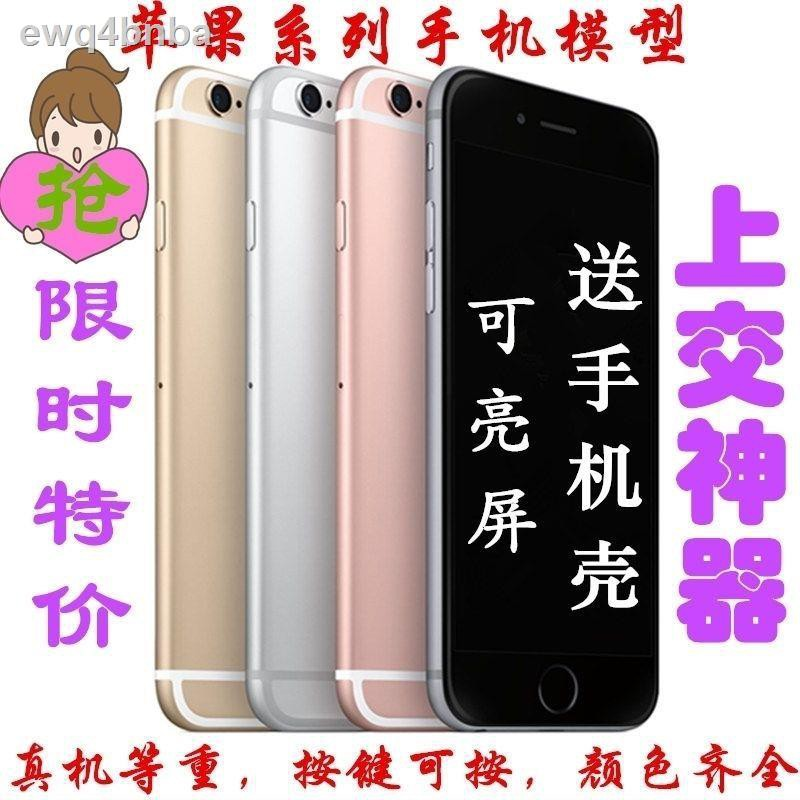Phone: (424, 64, 663, 735), (246, 65, 447, 734), (152, 64, 323, 733), (334, 65, 482, 734)
